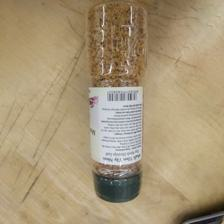TayNinh_green: (85, 1, 145, 204)
